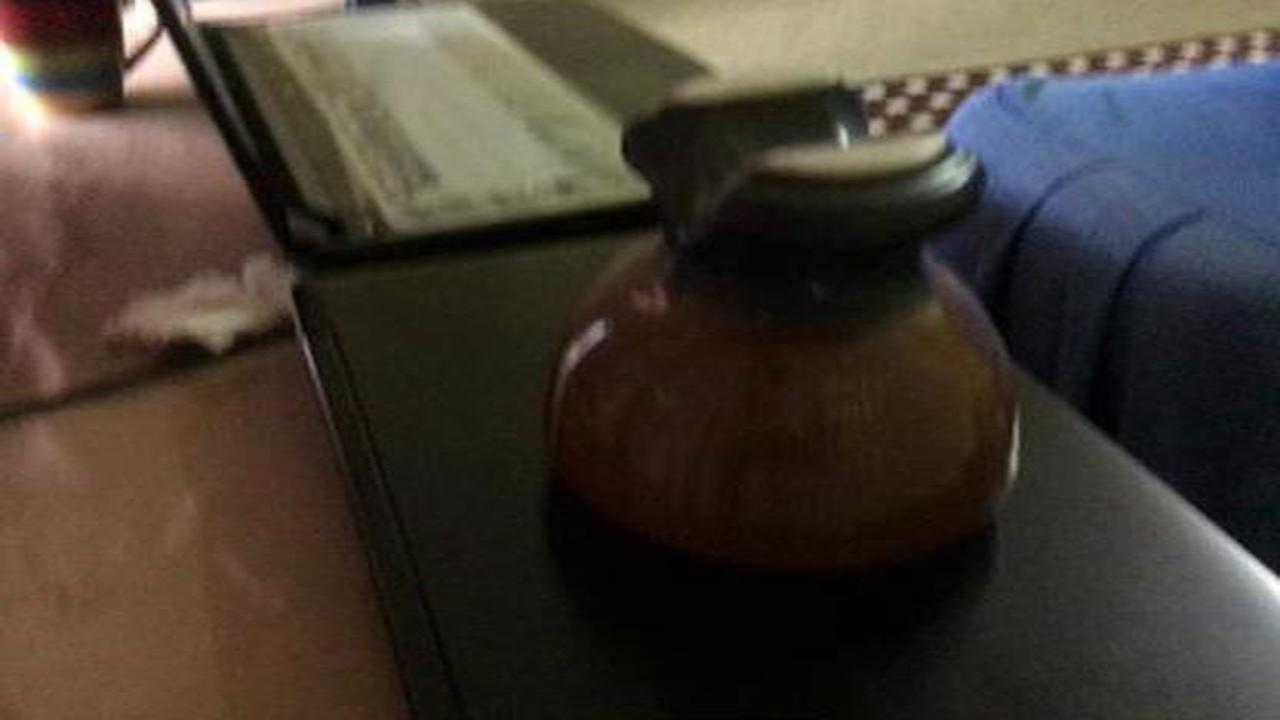insulator_pin: (536, 58, 1041, 584)
